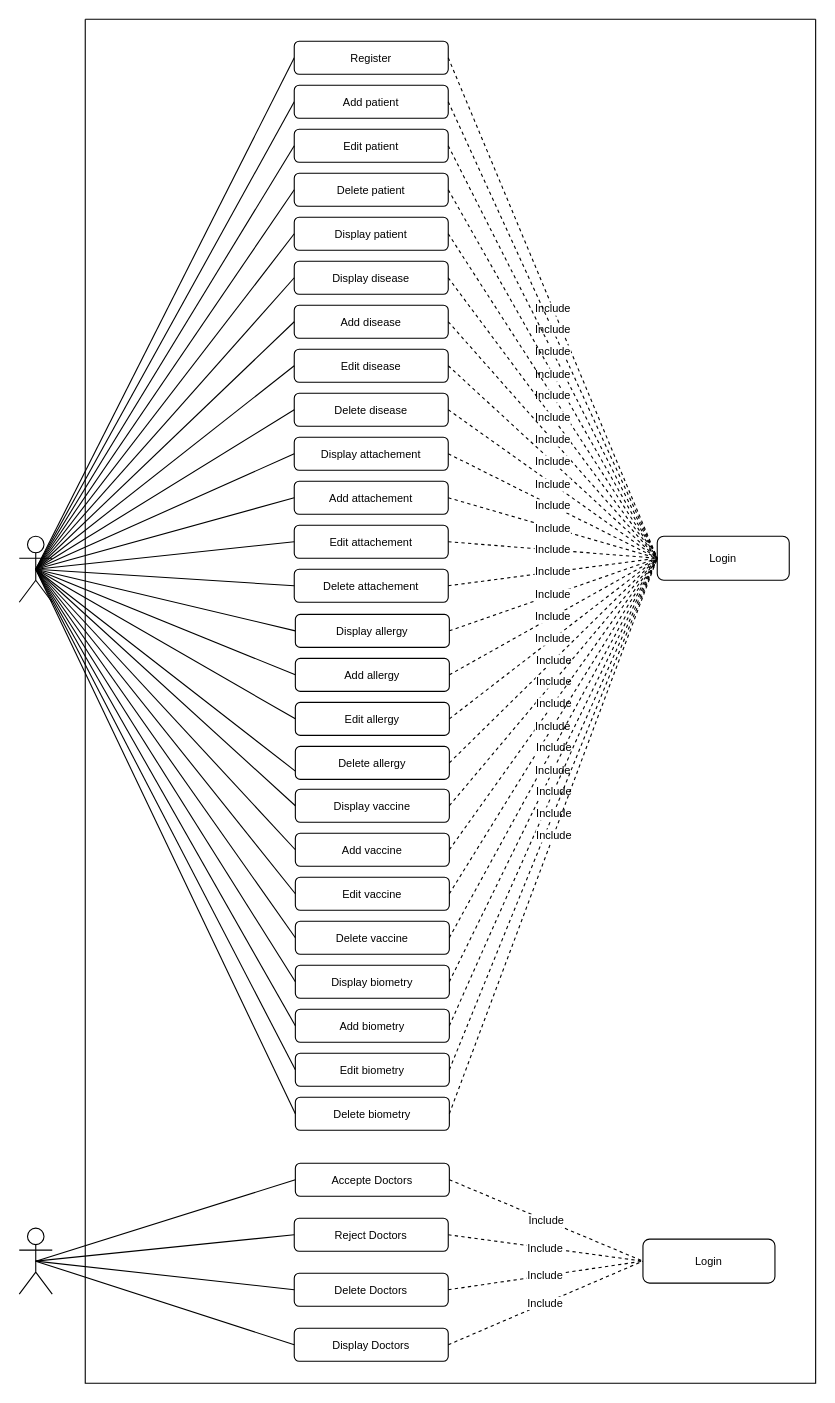
The diagram is 835 pixels wide and 1403 high, and some of its shapes have lost their labels. Each missing label, with the centre of its shape:
Admin: pixel 35 1260
Doctor: pixel 35 568
